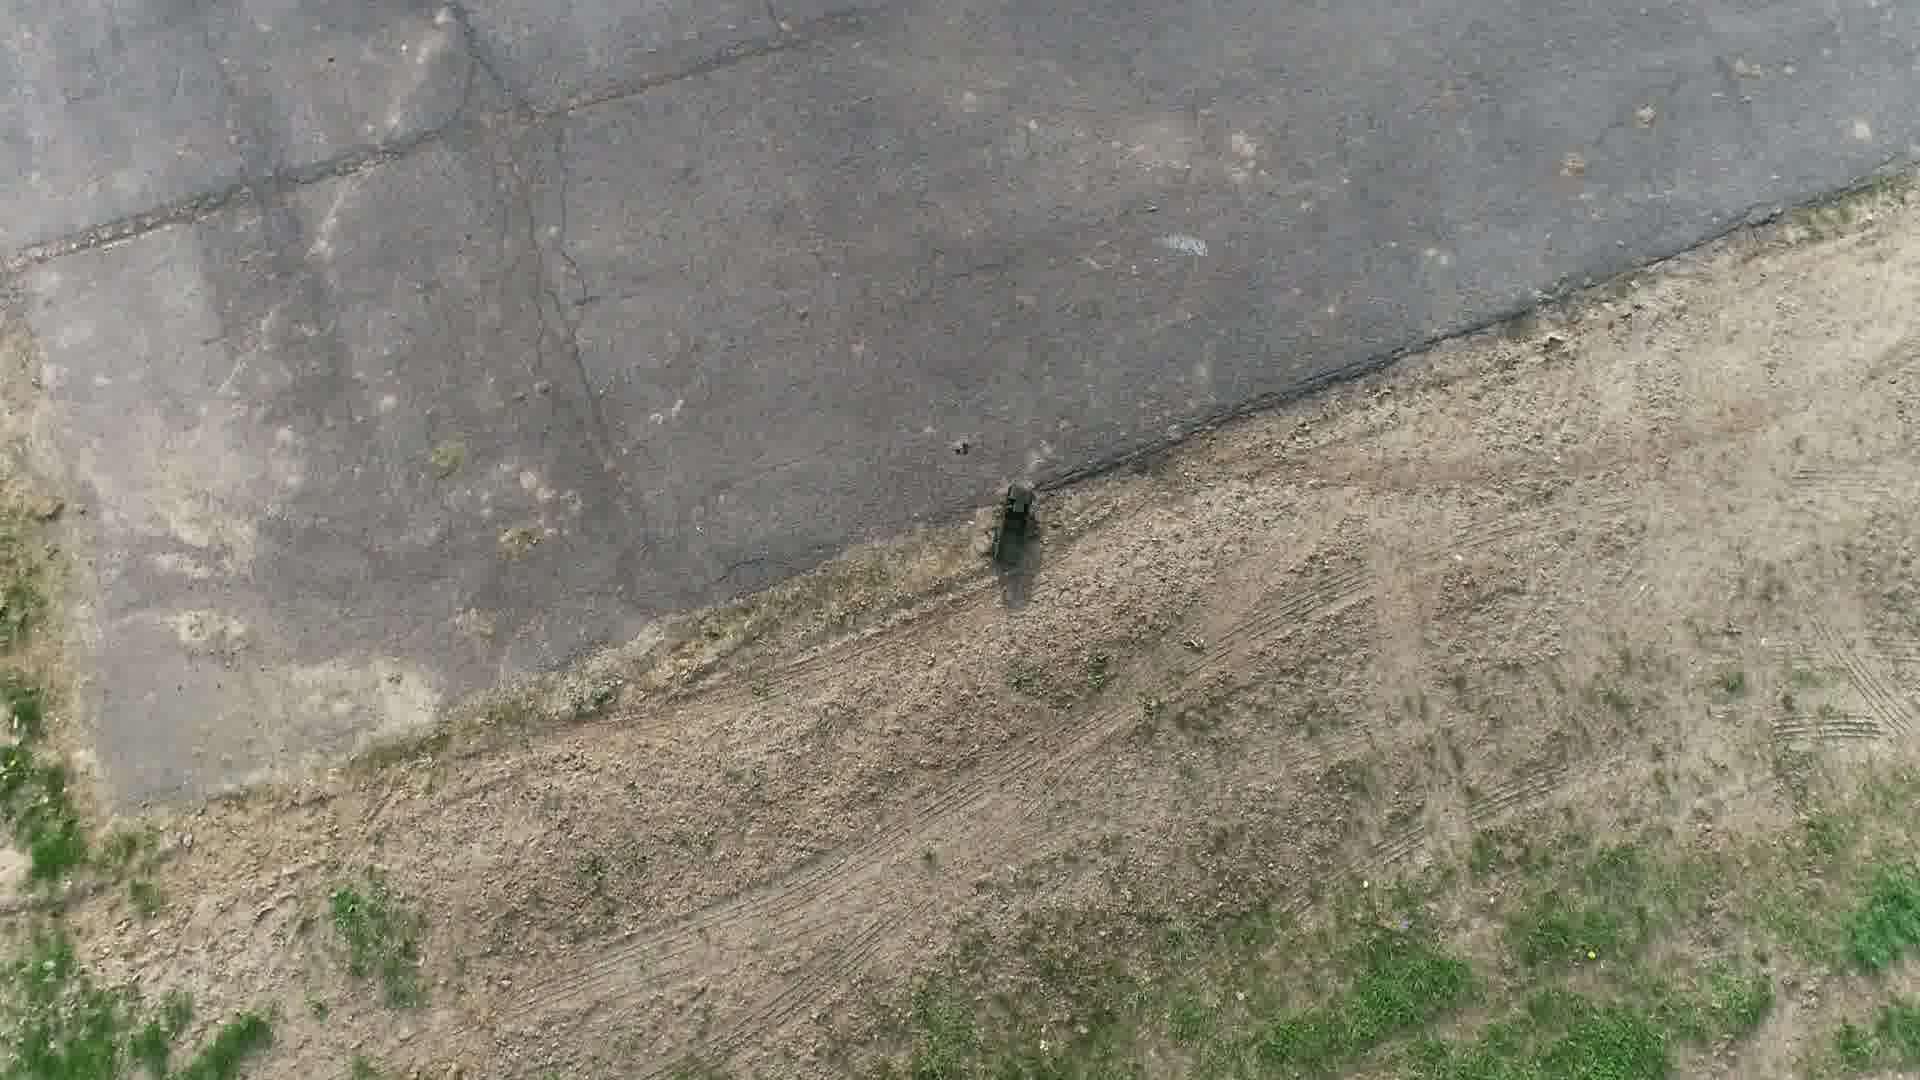transporter9: (985, 484, 1036, 570)
